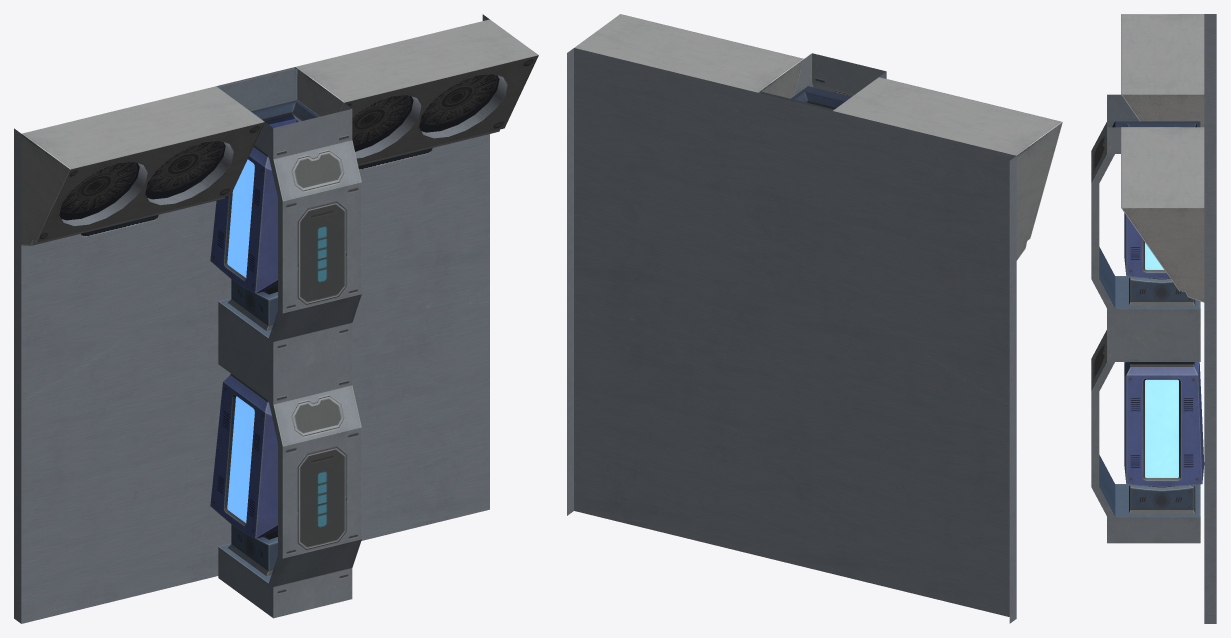
Rendered from DS_SM022_Scifi_Room_WallFlat_01.fbx.
3 renders of one model, left to right at view 1: azimuth 30°, elevation 25°; view 2: azimuth 150°, elevation 25°; view 3: azimuth 270°, elevation 25°, orthographic. The views are drawn at different scales.
Visible parts, largest first — view 1: DS_SM022_Scifi_Room_WallFlat_01_LP.001; view 2: DS_SM022_Scifi_Room_WallFlat_01_LP.001; view 3: DS_SM022_Scifi_Room_WallFlat_01_LP.001.
Part boxes in pixels (x1,y1,x2,y2): DS_SM022_Scifi_Room_WallFlat_01_LP.001: [14, 14, 538, 623]; DS_SM022_Scifi_Room_WallFlat_01_LP.001: [567, 14, 1062, 623]; DS_SM022_Scifi_Room_WallFlat_01_LP.001: [1091, 14, 1216, 623].
Bounding box in the file's own units: 800 × 800 × 219.
